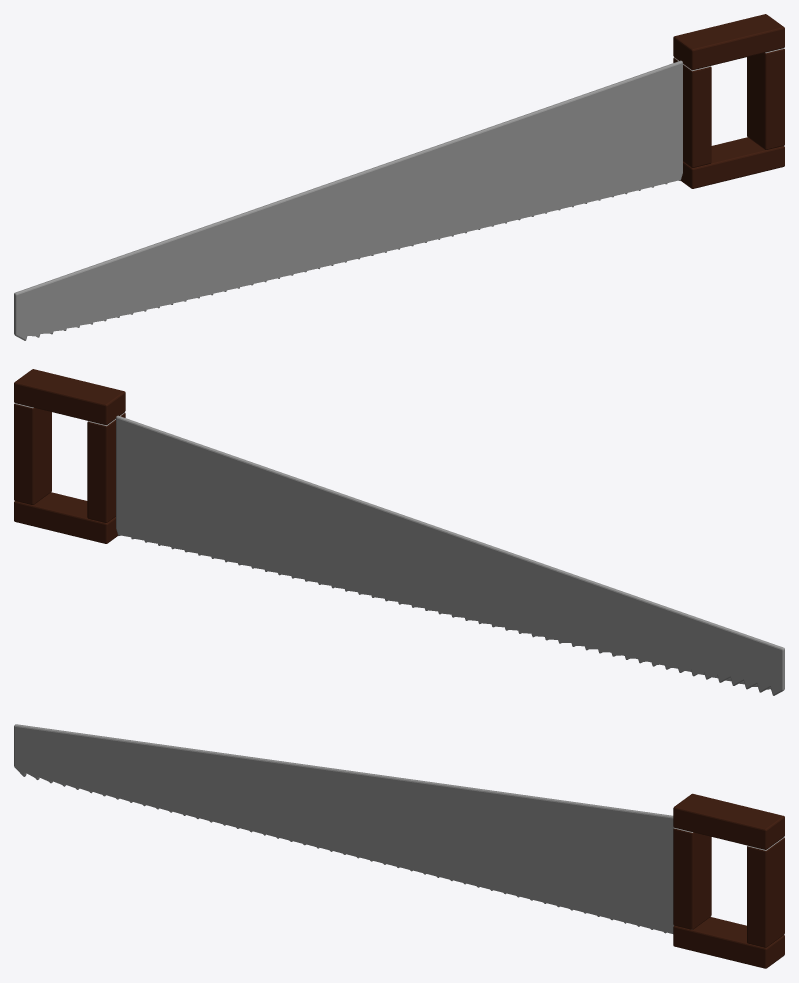
File: serrote.fbx
The picture shows the model from 3 angles, top to bottom: view 1: azimuth 30°, elevation 25°; view 2: azimuth 150°, elevation 25°; view 3: azimuth 330°, elevation 25°; orthographic projection.
Parts seen in each view (by area): view 1: Serrote; view 2: Serrote; view 3: Serrote.
Boxes of the visible parts, <box> form: Serrote: <box>14,14,784,340</box>; Serrote: <box>14,369,784,695</box>; Serrote: <box>14,724,784,968</box>.
Bounding box in the file's own units: 114 × 20 × 5.
